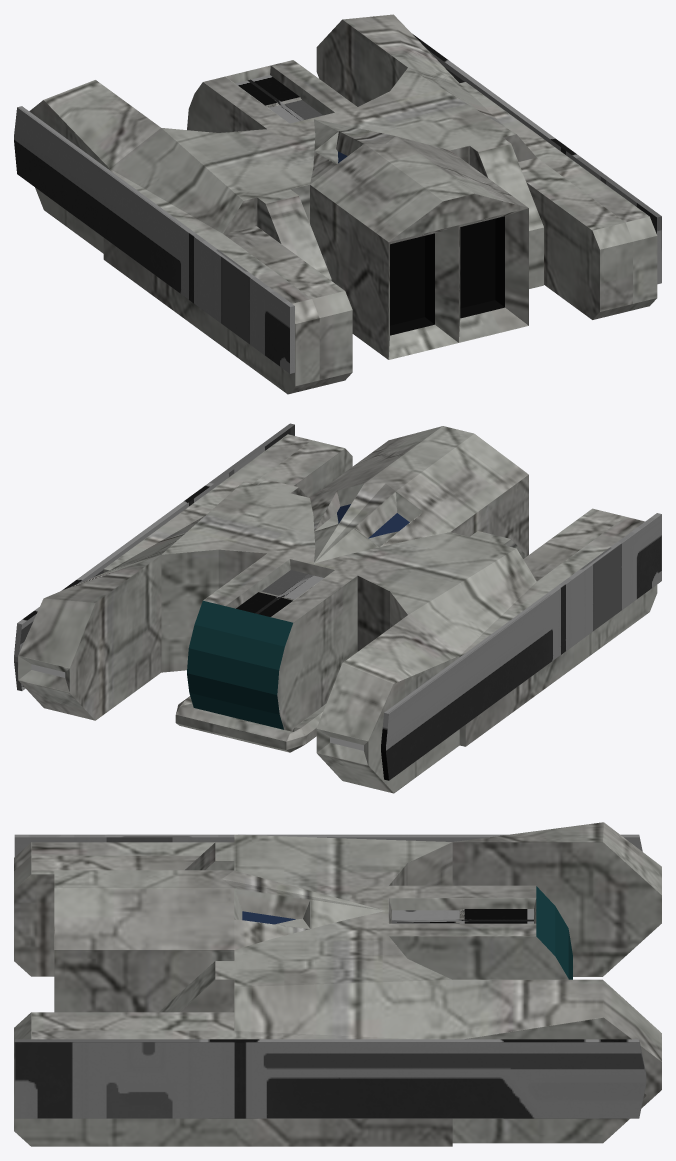
Rendered from redred.fbx.
3 renders of one model, top to bottom at view 1: azimuth 30°, elevation 25°; view 2: azimuth 150°, elevation 25°; view 3: azimuth 270°, elevation 25°, orthographic. The views are drawn at different scales.
Visible parts, largest first — view 1: Cube, SideBumps, Engine, Engine spots; view 2: Cube, SideBumps, Window, cockpitShield, Engine spots, Engine spots 2; view 3: Cube, SideBumps, Engine spots, Window.
Part boxes in pixels (x1,y1,x2,y2): Cube: [29, 14, 657, 394]; SideBumps: [14, 33, 661, 373]; Engine: [390, 216, 504, 335]; Engine spots: [235, 75, 322, 123]; Cube: [18, 426, 657, 793]; SideBumps: [14, 423, 661, 780]; Window: [187, 600, 292, 729]; cockpitShield: [175, 696, 325, 752]; Engine spots: [236, 570, 323, 616]; Engine spots 2: [337, 504, 409, 538]; Cube: [14, 822, 661, 1146]; SideBumps: [14, 834, 646, 1118]; Engine spots: [392, 909, 533, 923]; Window: [536, 886, 572, 979].
Size of the model in its own units: 360 by 135 by 475.
